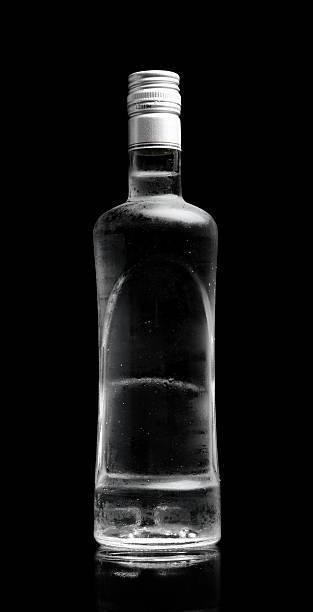bottle-glass: (88, 65, 225, 564)
